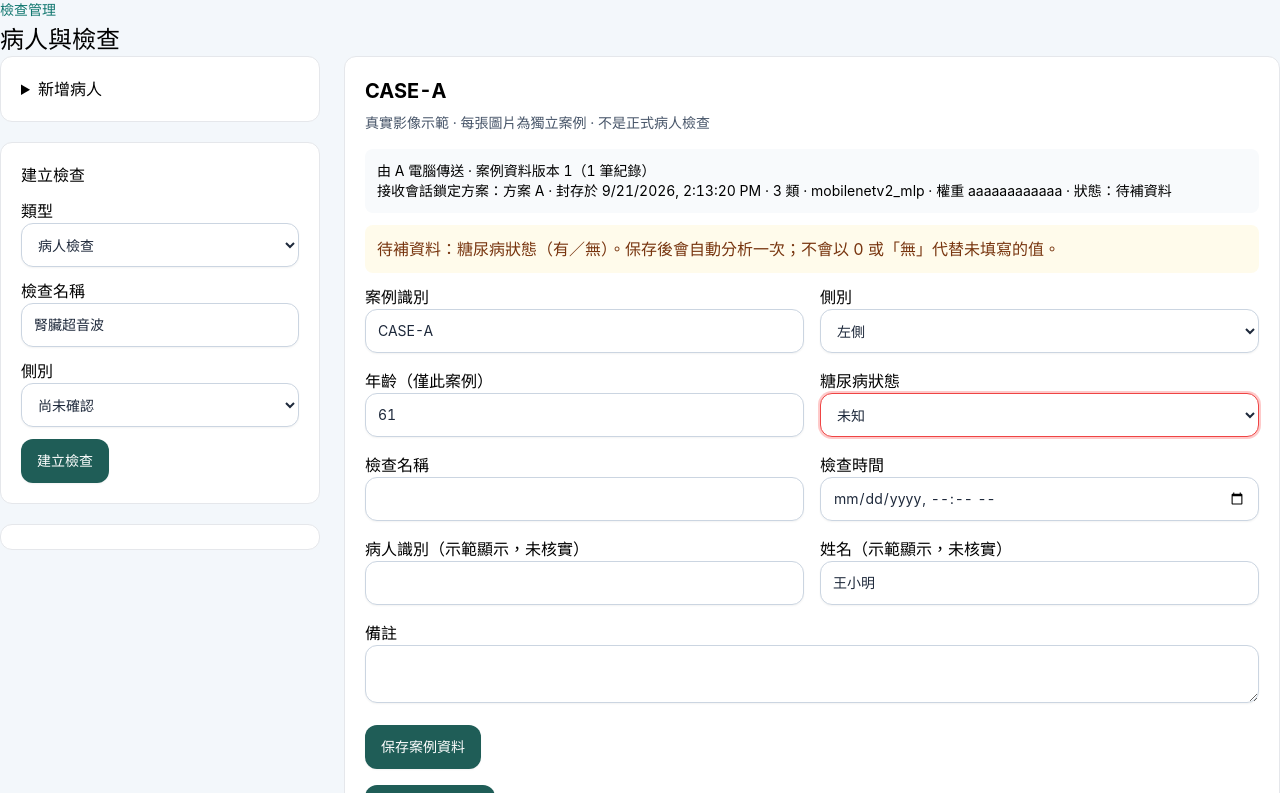
Test: opens the transferred case with saved data, highlights only missing fields and saves through the backend
Check: the message shows "待補資料：糖尿病狀態（有／無）", box [365,225,1259,273]
Check: the number field labelled "年齡（僅此案例）" holds "61", box [365,393,804,437]
Select "無" in the dropdown labelled "糖尿病狀態" at point(1040, 415), box [820,393,1259,437]
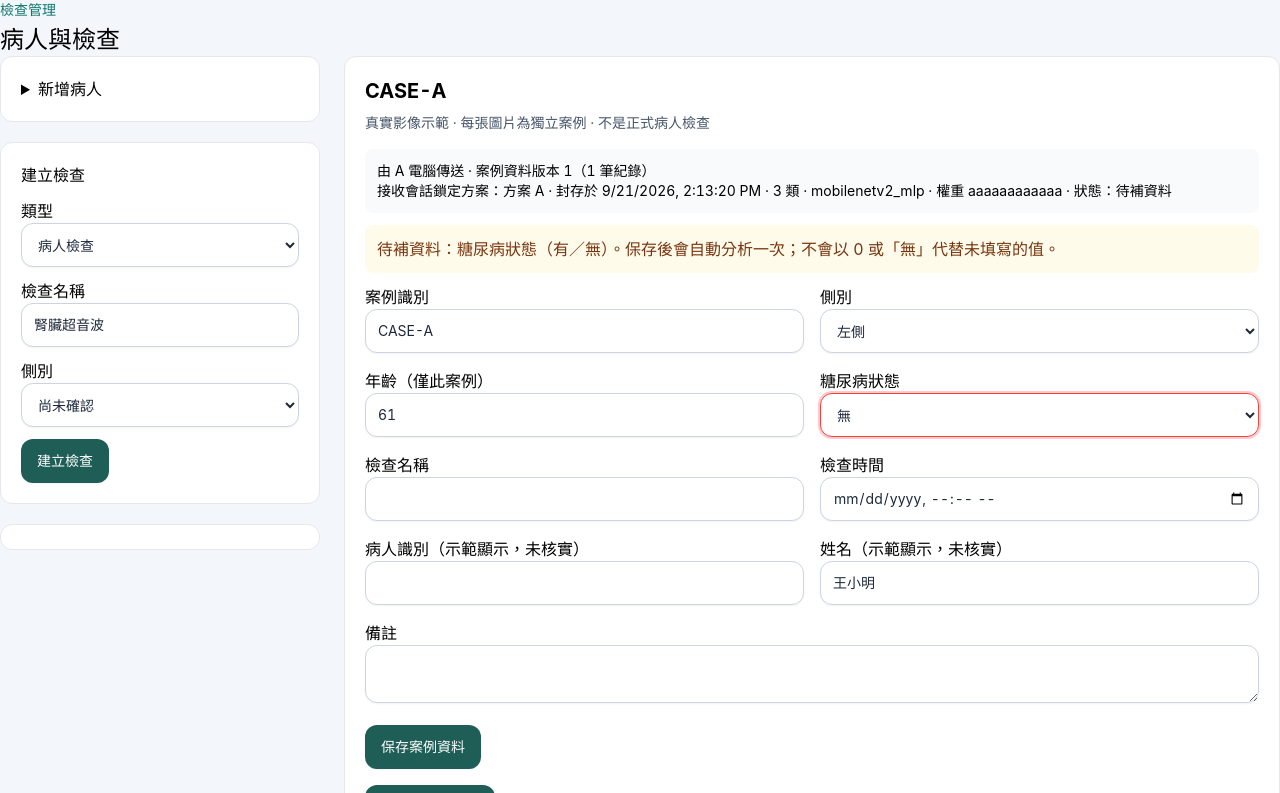
Click the button "保存案例資料" at point(423, 747), box [365,725,481,769]
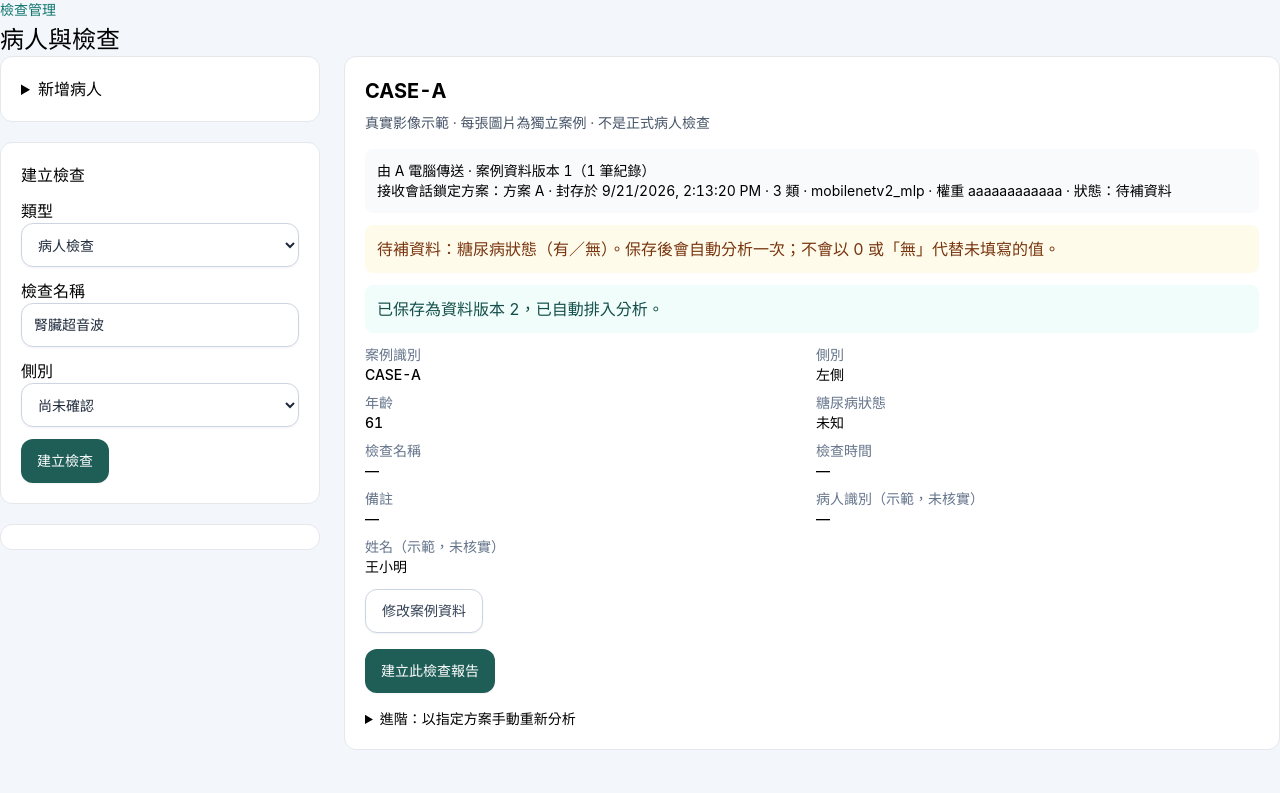
Check: the text "已保存為資料版本 2，已自動排入分析。" is shown, box [365,285,1259,333]
